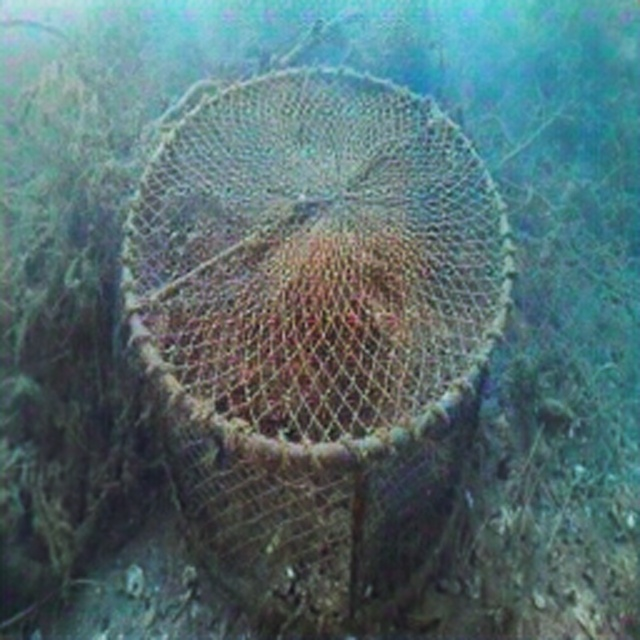mine: (121, 65, 514, 639)
